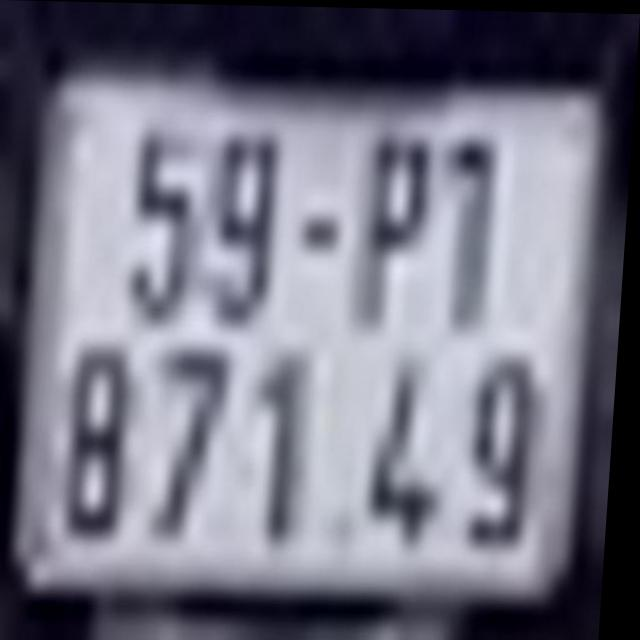1: (442, 126, 513, 338), (256, 349, 322, 543)
4: (359, 348, 462, 549)
5: (127, 118, 207, 323)
7: (144, 337, 241, 541)
8: (62, 328, 146, 541)
9: (464, 347, 553, 549), (206, 125, 285, 334)
P: (355, 118, 446, 333)
